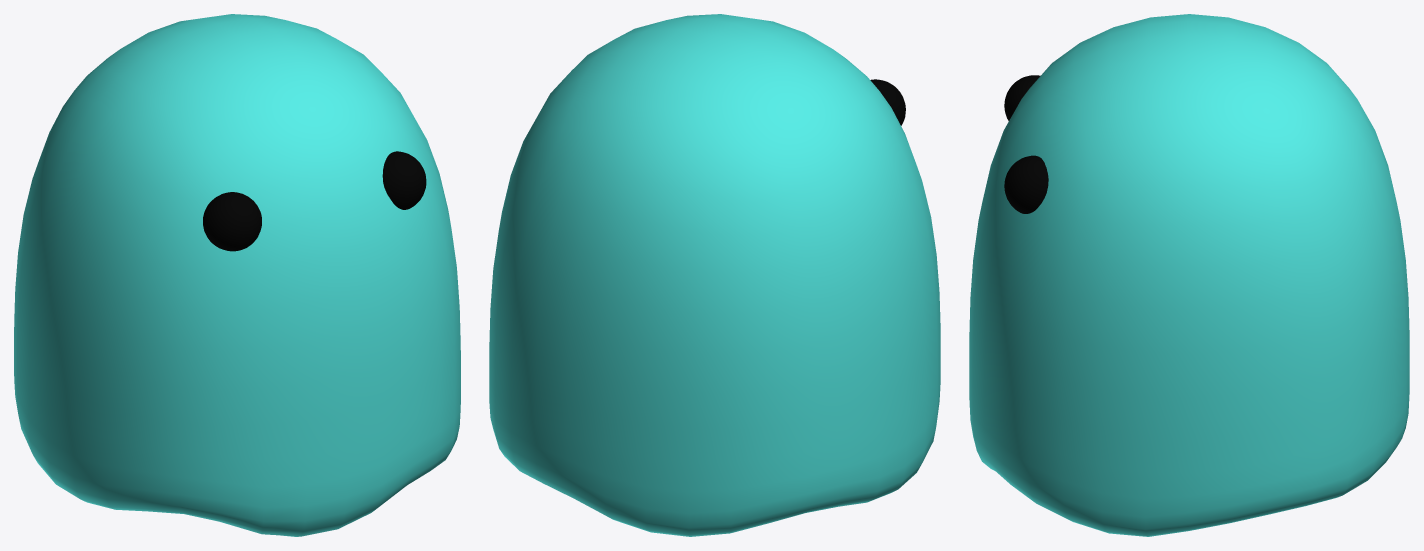
File: Ghost1.glb
3 renders of one model, left to right at view 1: azimuth 30°, elevation 25°; view 2: azimuth 150°, elevation 25°; view 3: azimuth 270°, elevation 25°, orthographic.
Visible parts, largest first — view 1: Blue, Sphere.001; view 2: Blue, Sphere.001; view 3: Blue, Sphere.001.
Part boxes in pixels (left/top/right/bottom): Blue: left=14, top=14, right=460, bottom=536; Sphere.001: left=203, top=151, right=426, bottom=251; Blue: left=489, top=14, right=940, bottom=536; Sphere.001: left=870, top=79, right=905, bottom=125; Blue: left=969, top=14, right=1409, bottom=536; Sphere.001: left=1004, top=75, right=1048, bottom=213.
Size of the model in its own units: 1.83 by 1.99 by 1.83.
